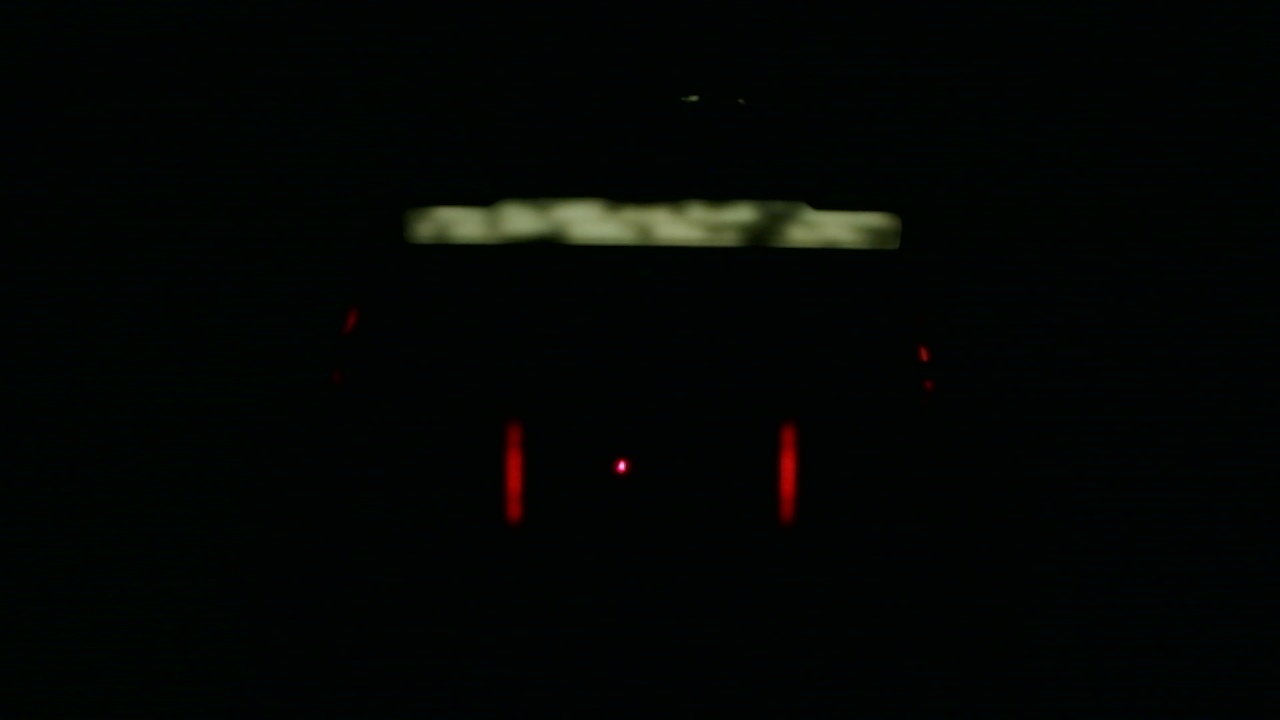lamp: (504, 418, 527, 526), (776, 418, 797, 522)
pair1: (506, 420, 798, 524)
